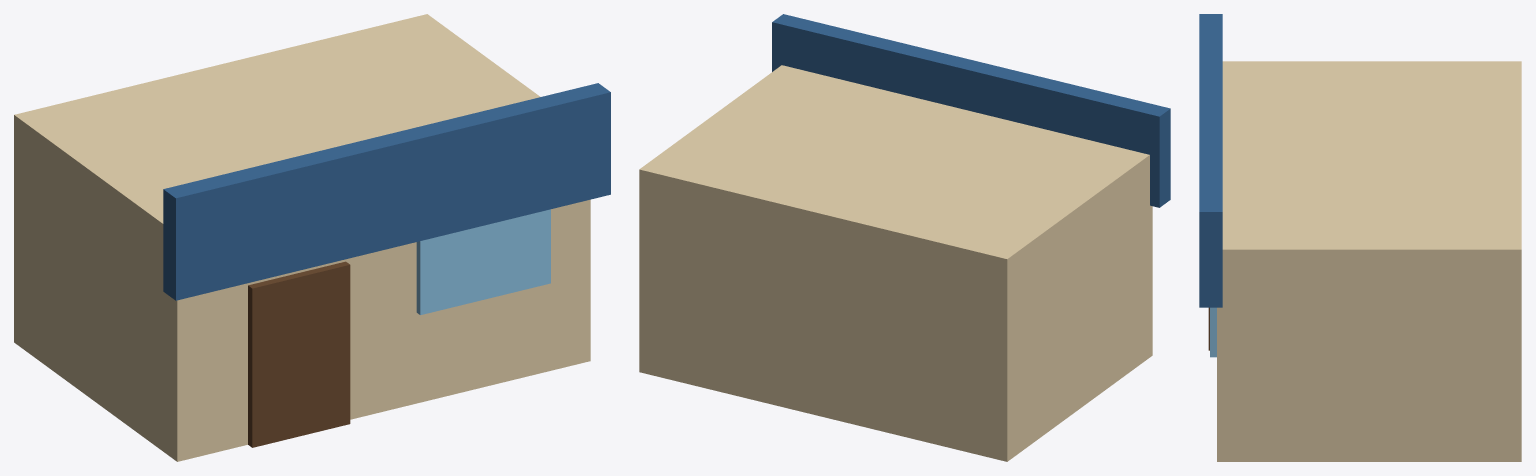
File: shop.glb
3 renders of one model, left to right at view 1: azimuth 30°, elevation 25°; view 2: azimuth 150°, elevation 25°; view 3: azimuth 270°, elevation 25°, orthographic. The views are drawn at different scales.
Visible parts, largest first — view 1: shop; view 2: shop; view 3: shop.
Boxes of the visible parts, x1,y1,x2,y2 form: shop: (14, 14, 610, 461); shop: (639, 14, 1170, 461); shop: (1199, 14, 1521, 461).
Size of the model in its own units: 4 by 2.4 by 2.75.
